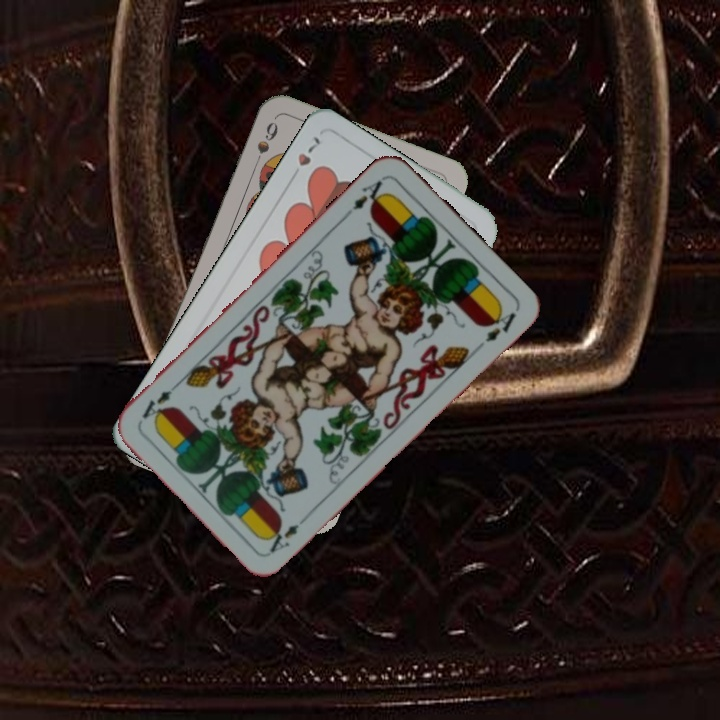EA: (262, 510, 311, 556), (348, 173, 390, 213)
H7: (286, 132, 323, 184)
S9: (249, 118, 281, 172)
